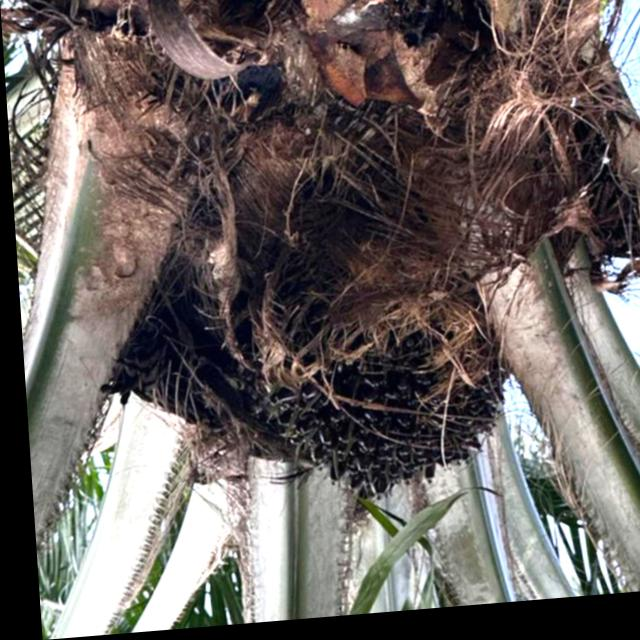almost: (239, 281, 521, 523)
